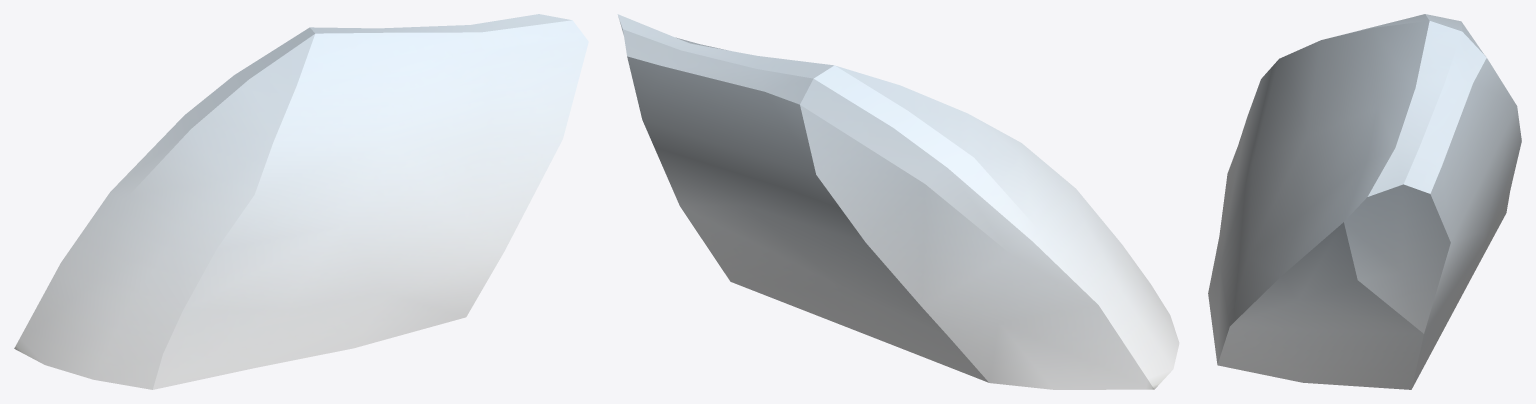
File: Mountain_Stone_White_006.FBX
3 renders of one model, left to right at view 1: azimuth 30°, elevation 25°; view 2: azimuth 150°, elevation 25°; view 3: azimuth 270°, elevation 25°, orthographic. The views are drawn at different scales.
Visible parts, largest first — view 1: Mountain_Stone_White_006; view 2: Mountain_Stone_White_006; view 3: Mountain_Stone_White_006.
Boxes of the visible parts, bbox=[...] form: Mountain_Stone_White_006: bbox=[14, 14, 588, 389]; Mountain_Stone_White_006: bbox=[617, 14, 1179, 389]; Mountain_Stone_White_006: bbox=[1208, 14, 1521, 389].
Size of the model in its own units: 579 by 243 by 228.
Materials: 1 (1 with a texture image).
